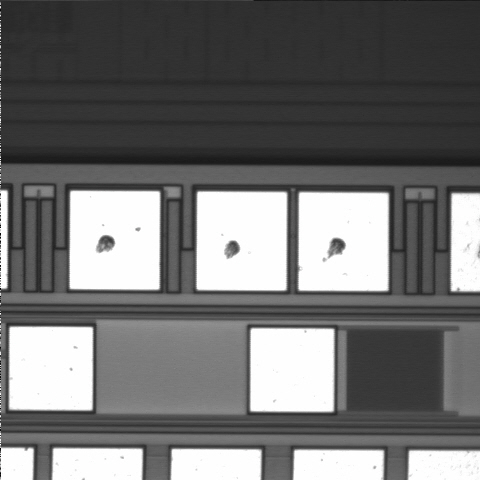pad: (70, 191, 160, 290), (197, 192, 287, 290), (299, 192, 388, 291), (250, 328, 334, 412), (9, 327, 93, 410)
